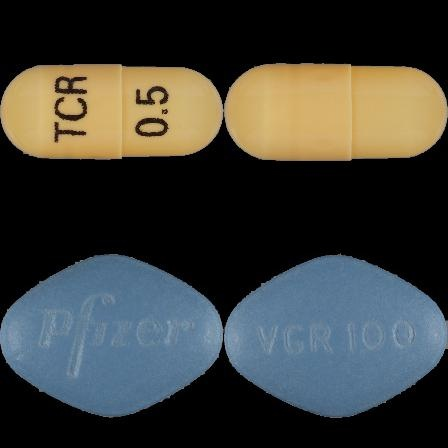55154-2676: (0, 0, 224, 224)
